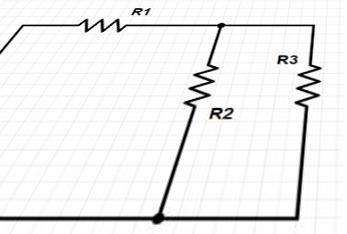resistor: (181, 53, 224, 109), (63, 14, 131, 39), (297, 56, 324, 113)
